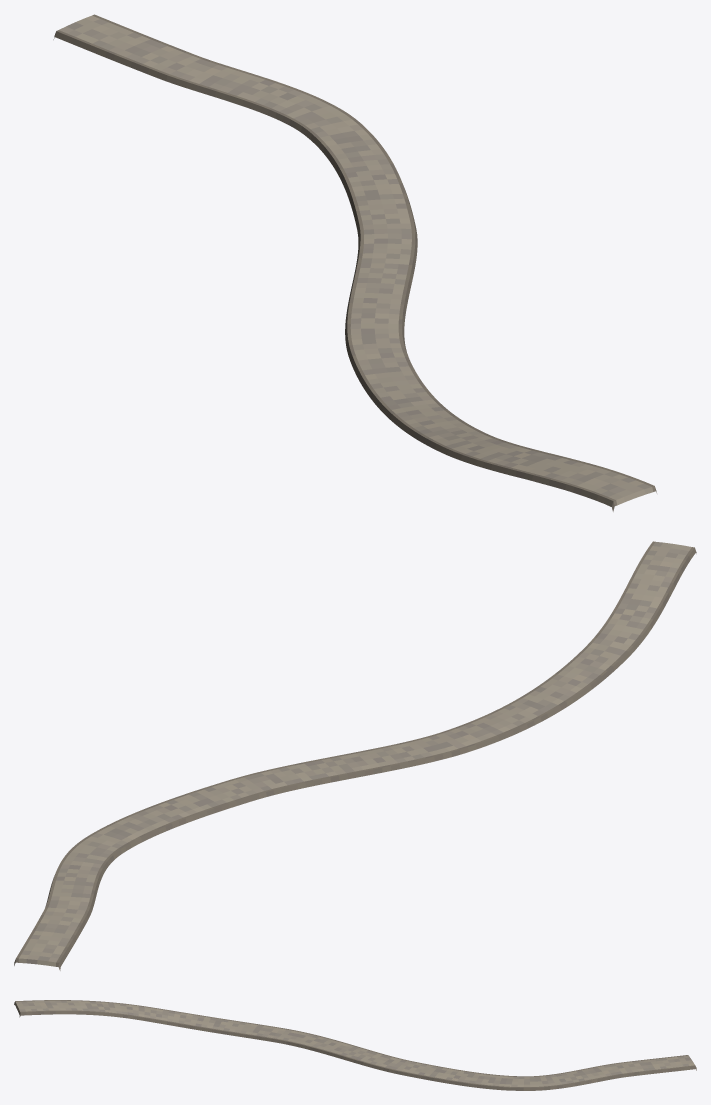
File: road_south_road.glb
The picture shows the model from 3 angles, top to bottom: view 1: azimuth 30°, elevation 25°; view 2: azimuth 150°, elevation 25°; view 3: azimuth 270°, elevation 25°; orthographic projection. The views are drawn at different scales.
Parts seen in each view (by area): view 1: road_south_road; view 2: road_south_road; view 3: road_south_road.
Boxes of the visible parts, x1=… form: road_south_road: x1=53, y1=14, x2=656, y2=511; road_south_road: x1=14, y1=541, x2=696, y2=970; road_south_road: x1=14, y1=1000, x2=696, y2=1090.
Bounding box in the file's own units: 87.08 × 17.29 × 348.
Materials: 1 (1 with a texture image).
